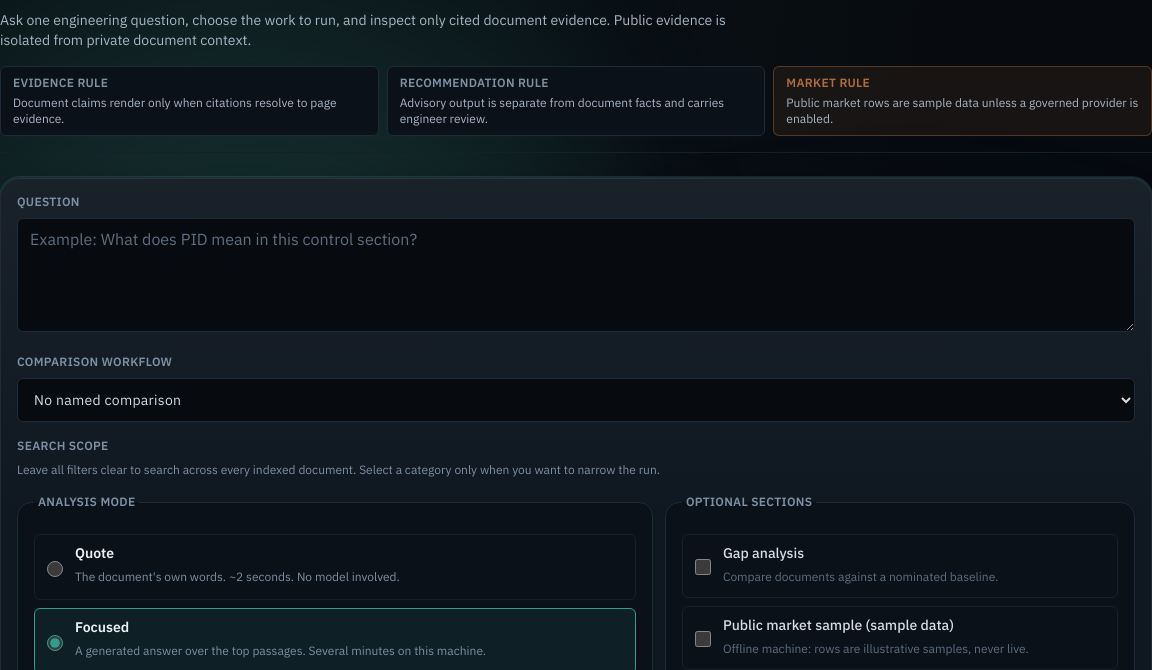
Test: AnalysisModeScreen: four states, four renderings › shows a loading state while the request is in flight
In the text box labelled "Question": (576, 275) [17,218,1135,332], type "what is the pressure floor"
(page scrolled)
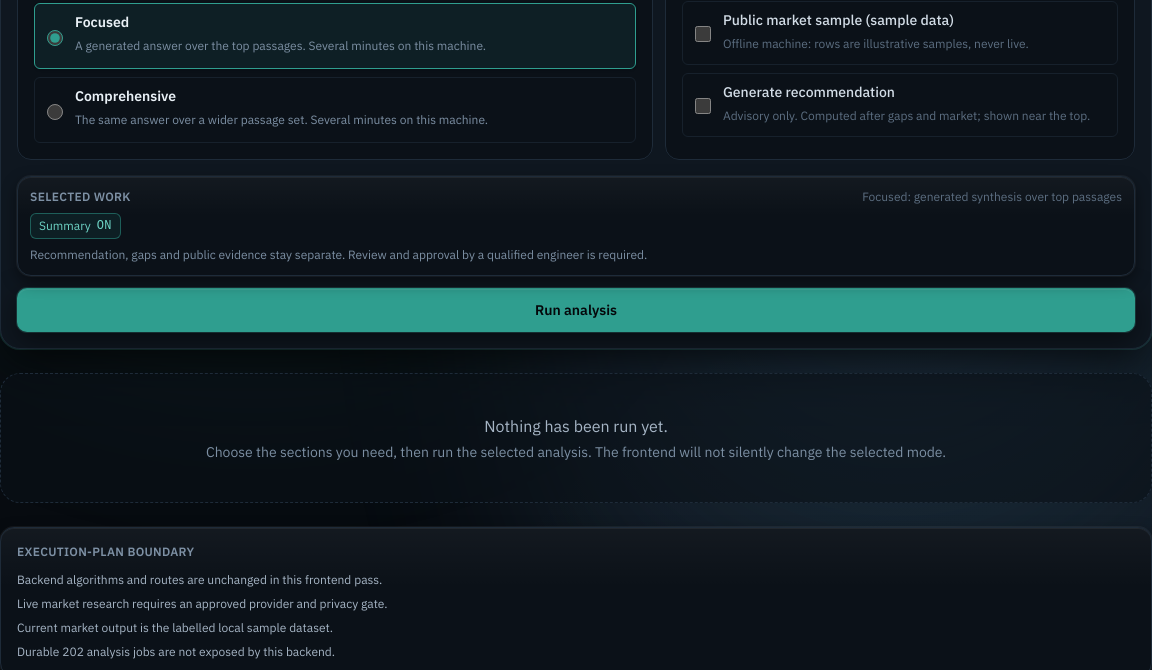
Click the button "Run analysis": (576, 310) [17,288,1135,332]
(page scrolled)
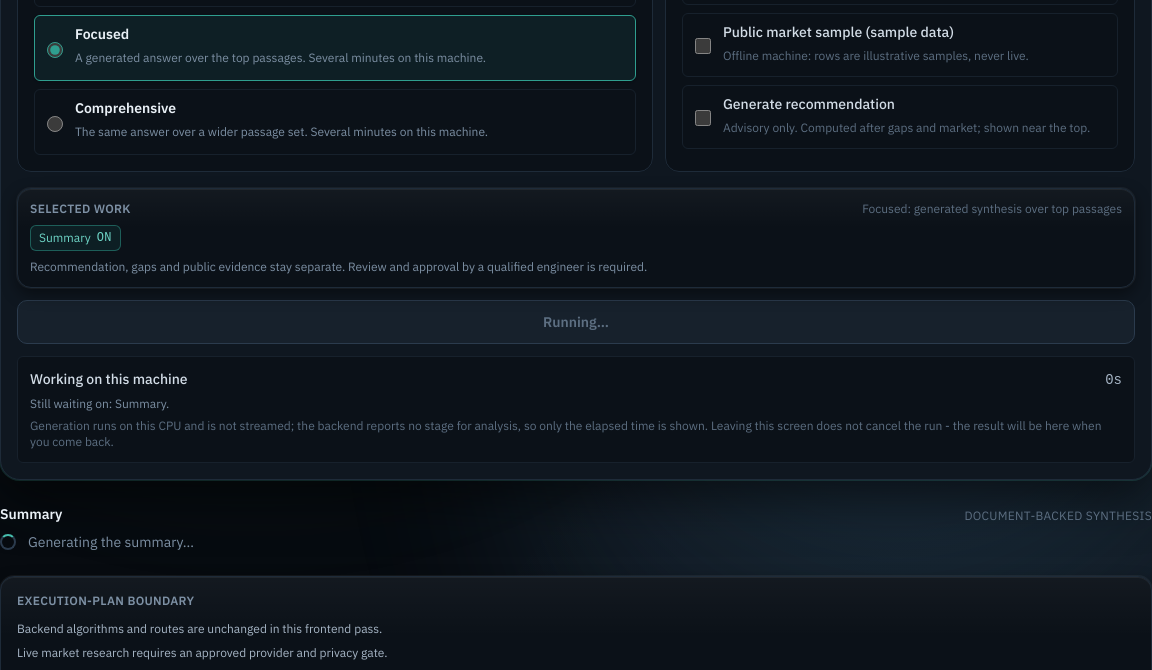
Expected: the text "Generating the summary…" is shown, [28,532,194,552]
